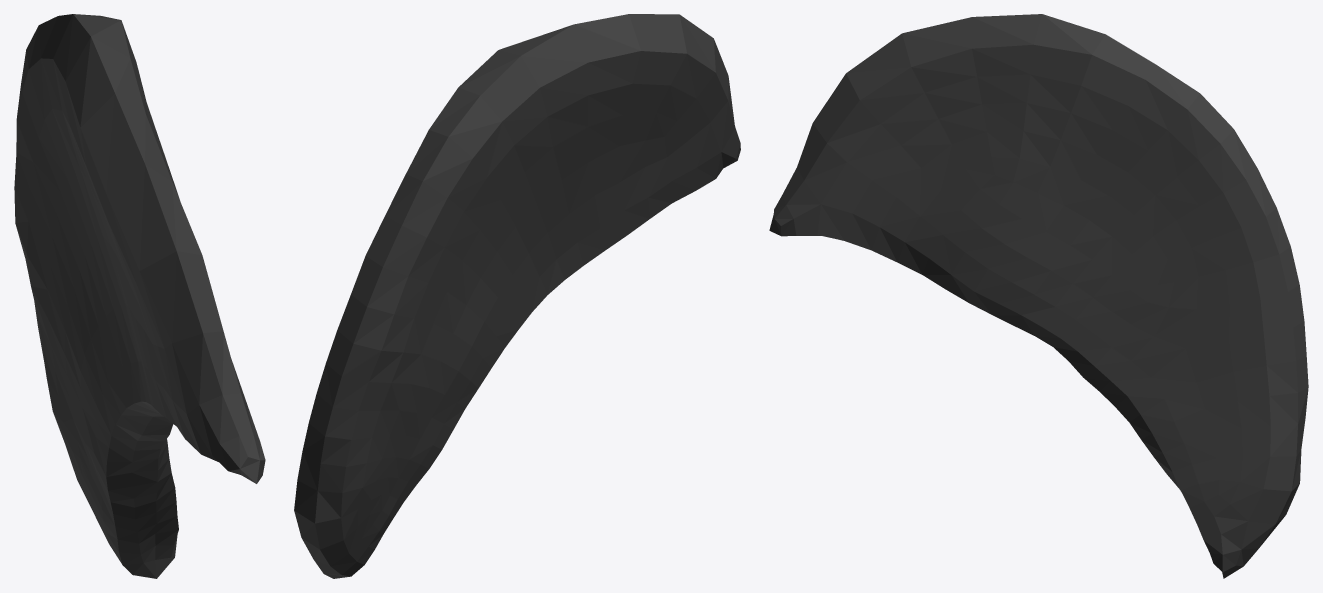
File: LFL_scapula_cartilage.glb
3 views of the same model, side by side, from view 1: azimuth 30°, elevation 25°; view 2: azimuth 150°, elevation 25°; view 3: azimuth 270°, elevation 25° (orthographic). The views are drawn at different scales.
Visible parts, largest first — view 1: LFL_scapula_cartilage; view 2: LFL_scapula_cartilage; view 3: LFL_scapula_cartilage.
Part boxes in pixels (box(x1,y1,x2,y2)): LFL_scapula_cartilage: box(14, 14, 265, 578); LFL_scapula_cartilage: box(294, 14, 740, 578); LFL_scapula_cartilage: box(769, 14, 1308, 578).
Bounding box in the file's own units: 11.09 × 25.85 × 25.41.
1 material, 1 textured.
